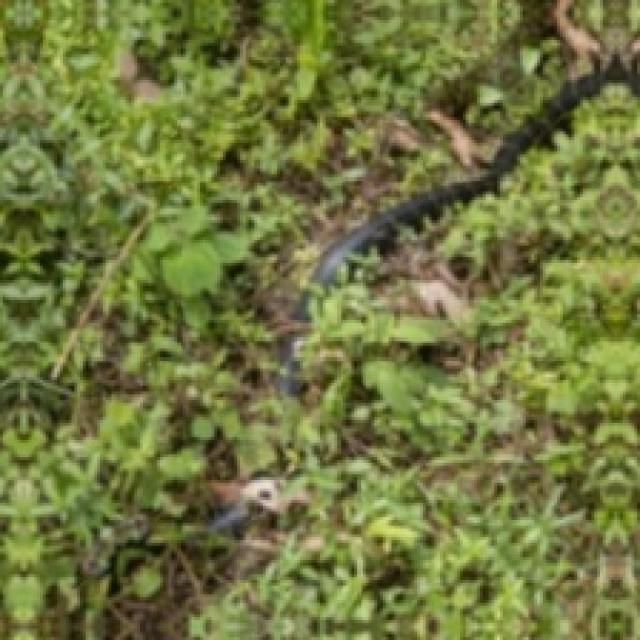king cobra: (311, 0, 637, 283)
